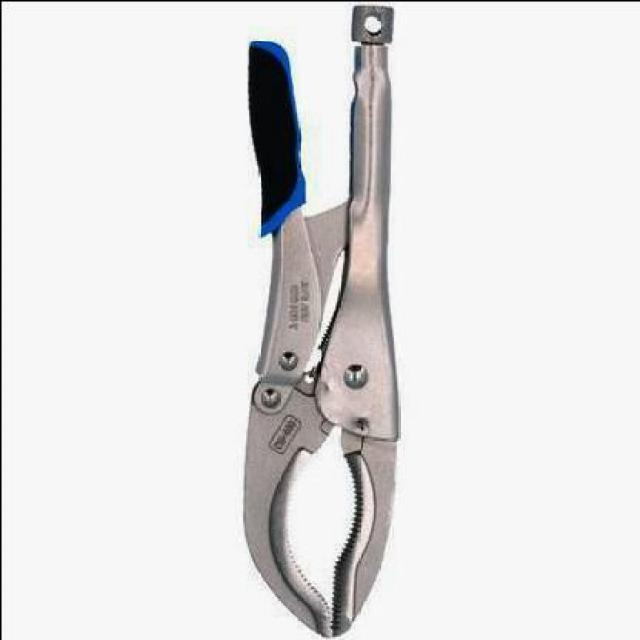pliers: (197, 1, 417, 638)
